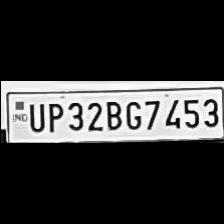2: (84, 98, 103, 132)
3: (200, 94, 220, 128), (64, 98, 82, 132)
4: (160, 96, 180, 130)
5: (180, 95, 198, 129)
7: (141, 96, 159, 132)
B: (102, 97, 122, 130)
G: (122, 97, 142, 130)
P: (44, 99, 62, 133)
U: (24, 100, 43, 132)
